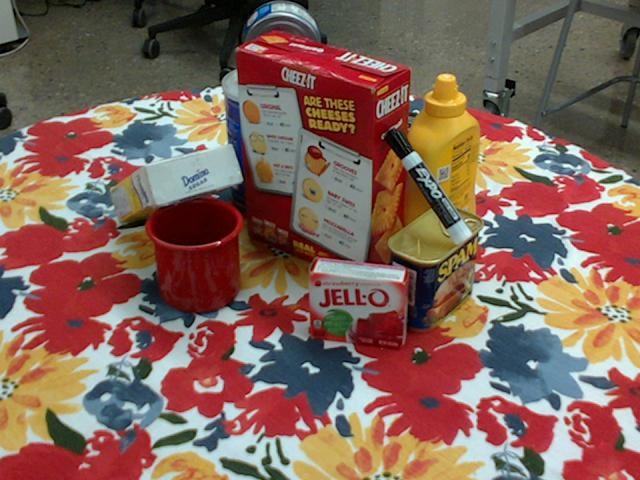cracker_box: (234, 31, 410, 286)
gelatin_box: (308, 257, 410, 349)
large_marker: (385, 127, 474, 244)
master_chef_can: (222, 64, 317, 216)
mug: (145, 197, 244, 313)
mustard_bottle: (401, 74, 481, 266)
potted_meat_can: (388, 205, 486, 333)
sugar_box: (108, 145, 242, 223)
tomato_soup_can: (370, 112, 434, 219)
tuna_fish_can: (240, 1, 320, 87)
